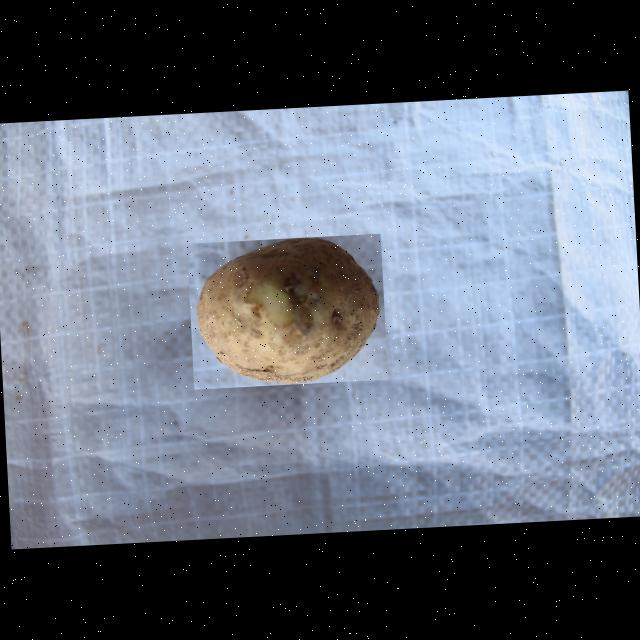Diseased-fungal potato: (187, 233, 388, 389)
